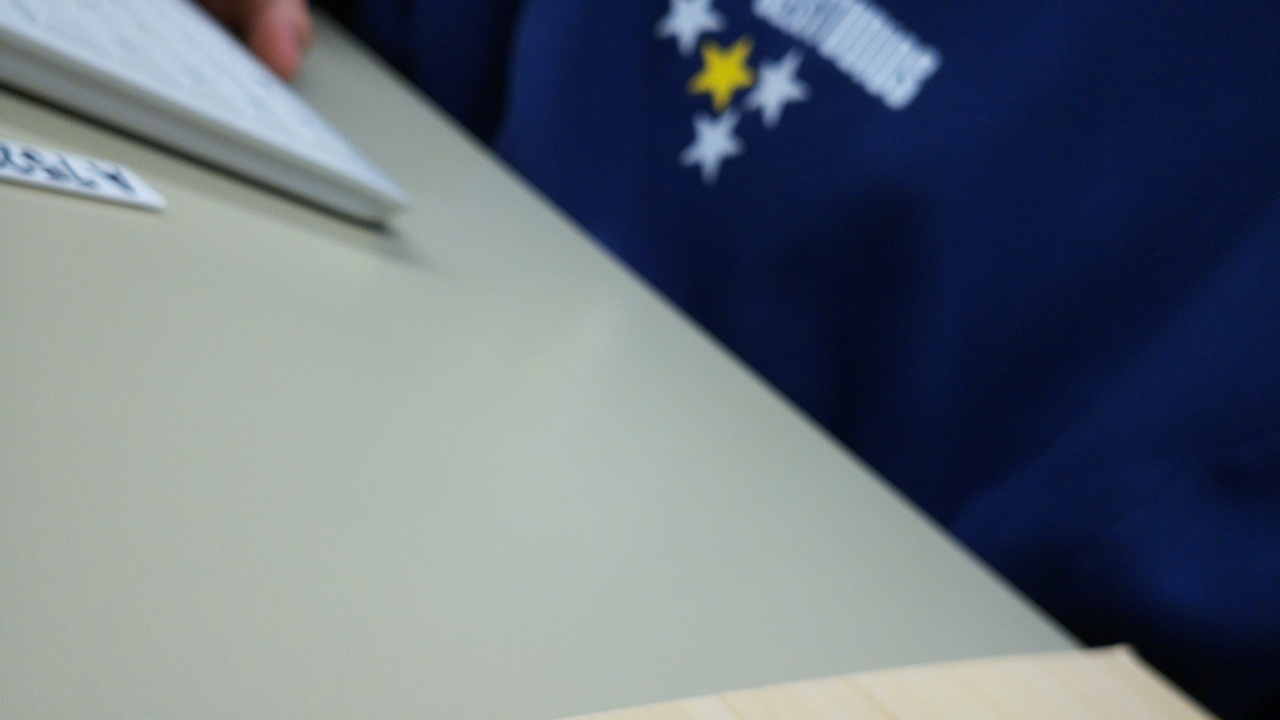license_plate: (0, 137, 173, 215)
